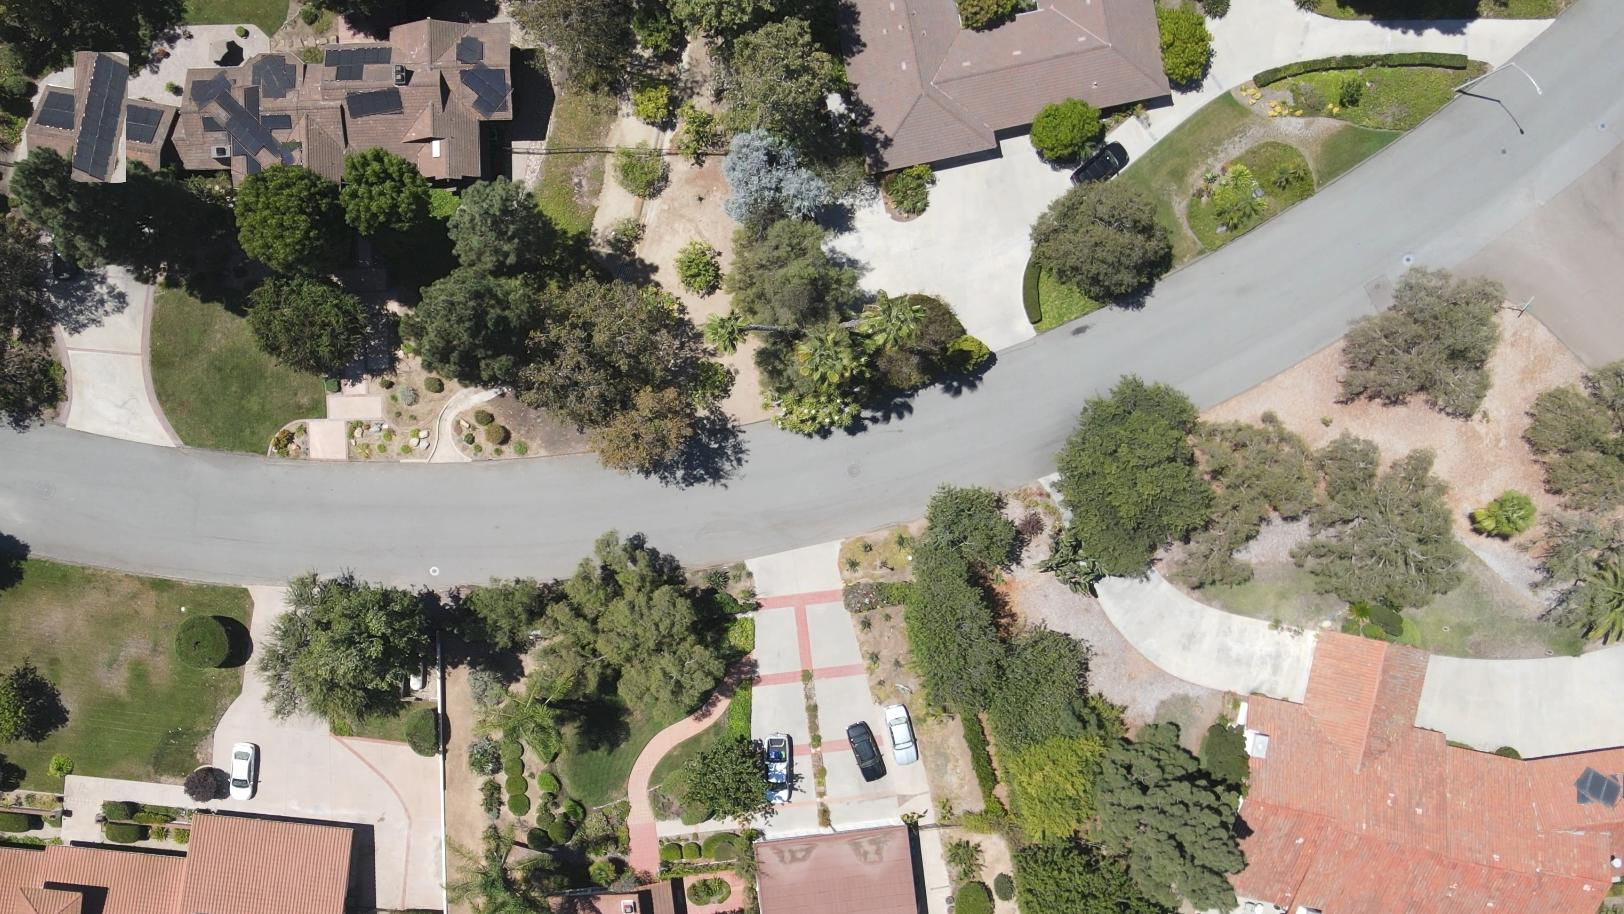solar-panels: (70, 52, 129, 182), (214, 89, 287, 160), (462, 60, 514, 120), (1572, 766, 1622, 811), (324, 47, 392, 80), (252, 52, 295, 101), (346, 86, 404, 119), (190, 70, 235, 111), (457, 36, 482, 65), (277, 141, 299, 167)
